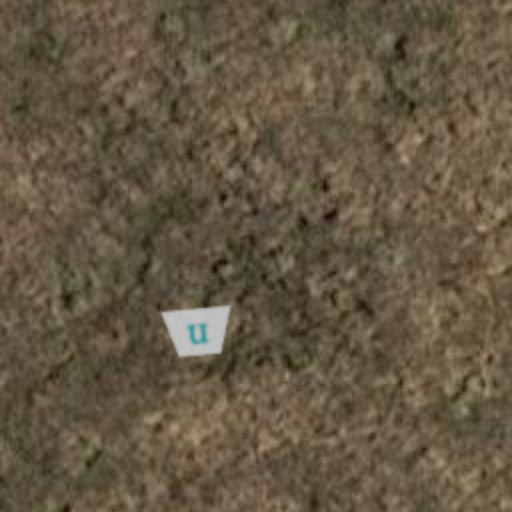trapezoid: (158, 292, 238, 372)
